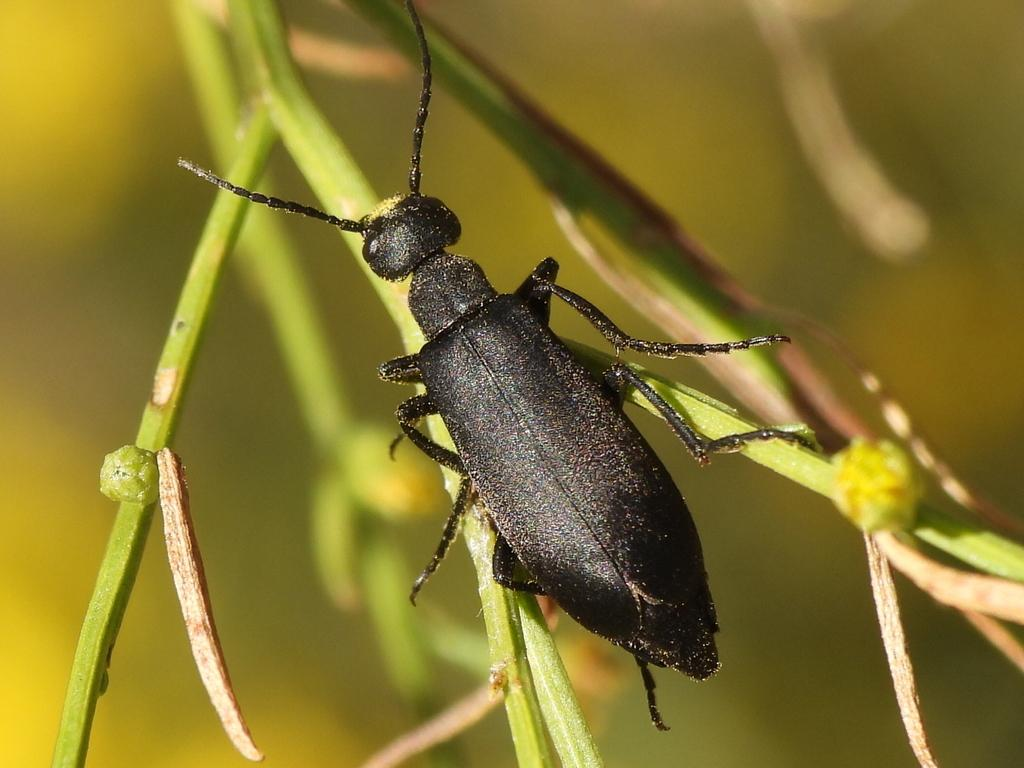blister_beetle: (107, 0, 871, 768)
